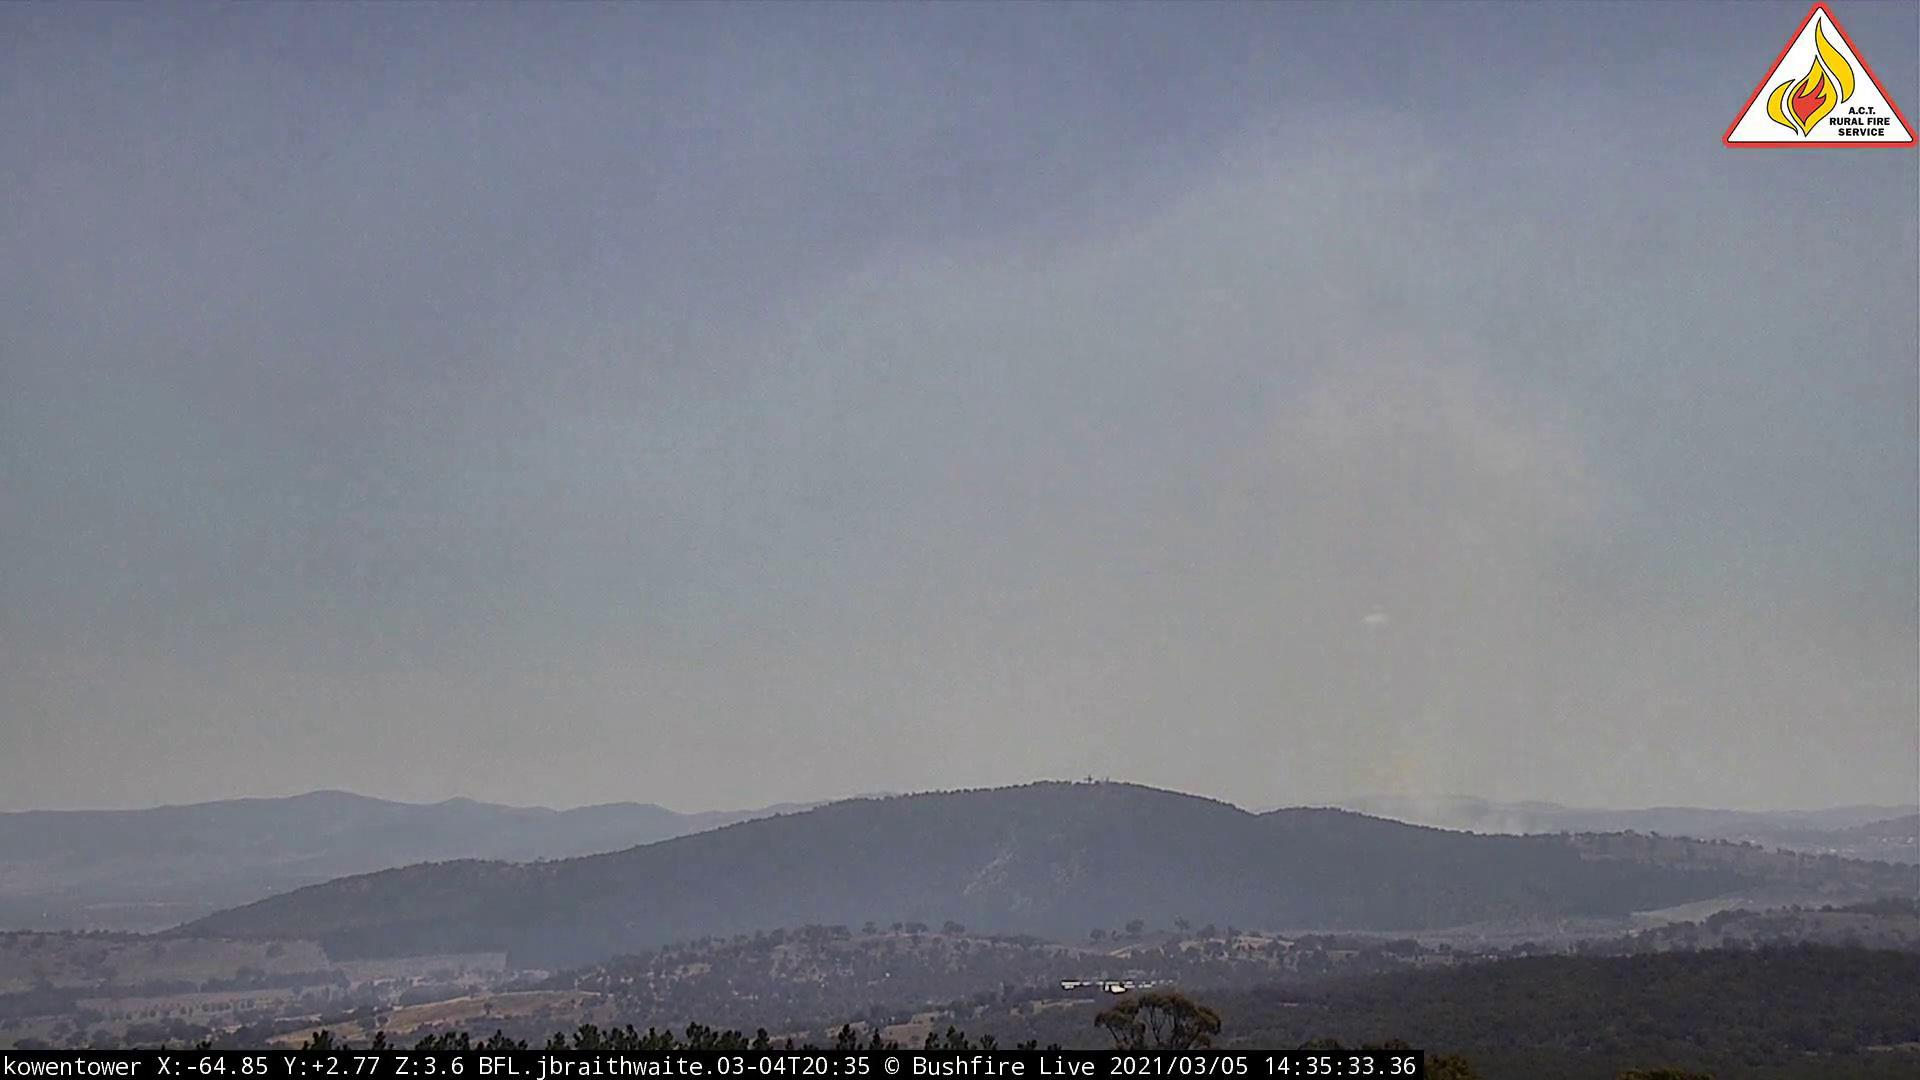Smoke: (1209, 315, 1654, 841)
